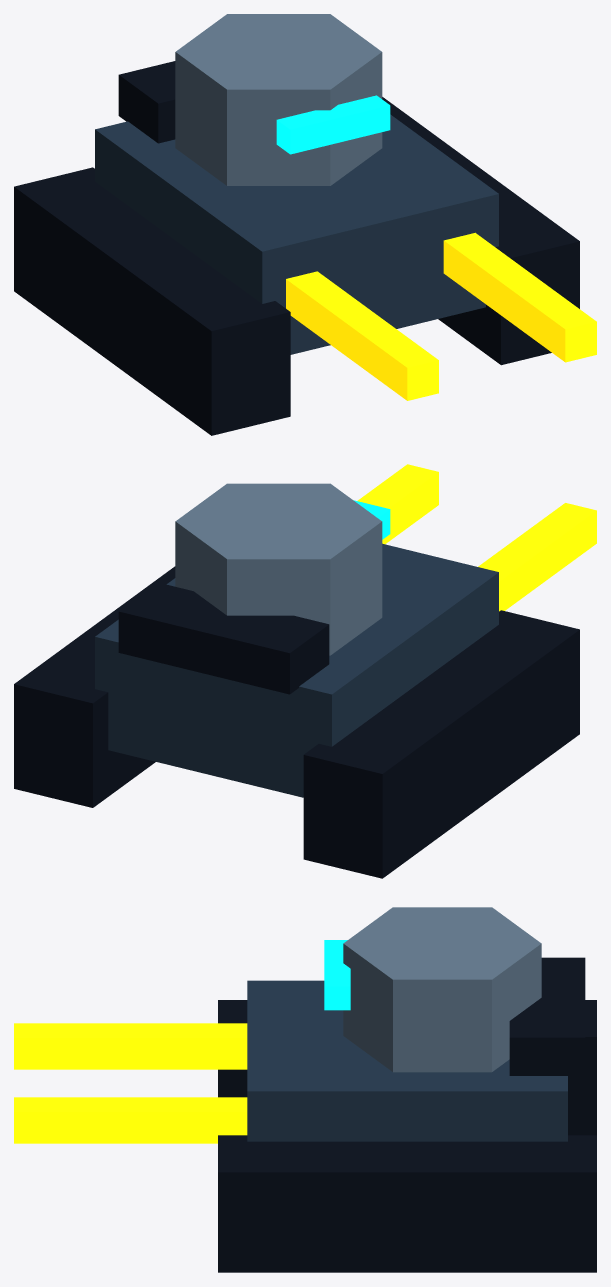
File: worker_low.glb
3 renders of one model, top to bottom at view 1: azimuth 30°, elevation 25°; view 2: azimuth 150°, elevation 25°; view 3: azimuth 270°, elevation 25°, orthographic. The views are drawn at different scales.
Visible parts, largest first — view 1: Crawler chassis, Track housing, Tool turret, Track housing.001, Salvage fork.001, Salvage fork, Optics, Cargo rack; view 2: Track housing, Crawler chassis, Tool turret, Track housing.001, Cargo rack, Salvage fork, Salvage fork.001; view 3: Track housing.001, Crawler chassis, Tool turret, Salvage fork, Salvage fork.001, Cargo rack, Track housing, Optics.
Part boxes in pixels (x1,y1,x2,y2): Crawler chassis: (95,114,498,354); Track housing: (14,167,290,435); Tool turret: (175,14,382,185); Track housing.001: (382,97,579,365); Salvage fork.001: (443,232,596,362); Salvage fork: (286,271,438,400); Optics: (276,95,390,154); Cargo rack: (118,61,175,143); Track housing: (303,610,579,878); Crawler chassis: (95,543,498,797); Tool turret: (175,483,382,655); Track housing.001: (14,566,175,807); Cargo rack: (118,582,329,694); Salvage fork: (478,503,596,611); Salvage fork.001: (357,464,438,544); Track housing.001: (218,1135,596,1272); Crawler chassis: (247,980,567,1141); Tool turret: (343,907,541,1072); Salvage fork: (14,1023,247,1069); Salvage fork.001: (14,1097,247,1143); Cargo rack: (509,957,585,1077); Track housing: (218,1000,596,1135); Optics: (324,940,350,1010).
Bounding box in the file's own units: 1.4 × 0.92 × 2.
